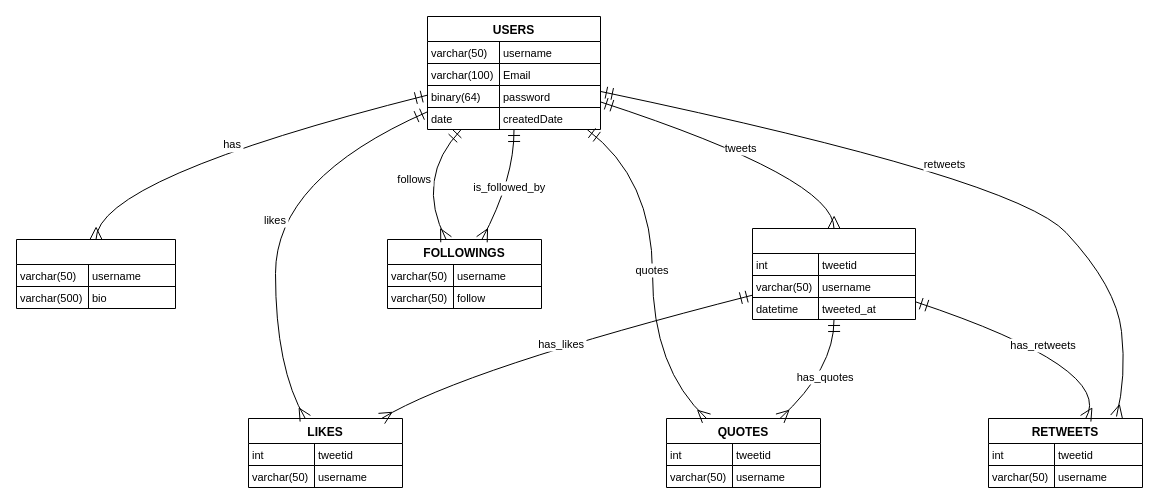
Some shapes in this 1159 by 504 pixel diagram are drawn without their labels. The shapes that lost their labels are listed below. From the top down, each one's box as (x1, y1, x2, y2) in pixels, then its label:
(16, 238, 176, 308): USERPROFILE
(752, 228, 916, 320): TWEEETS
